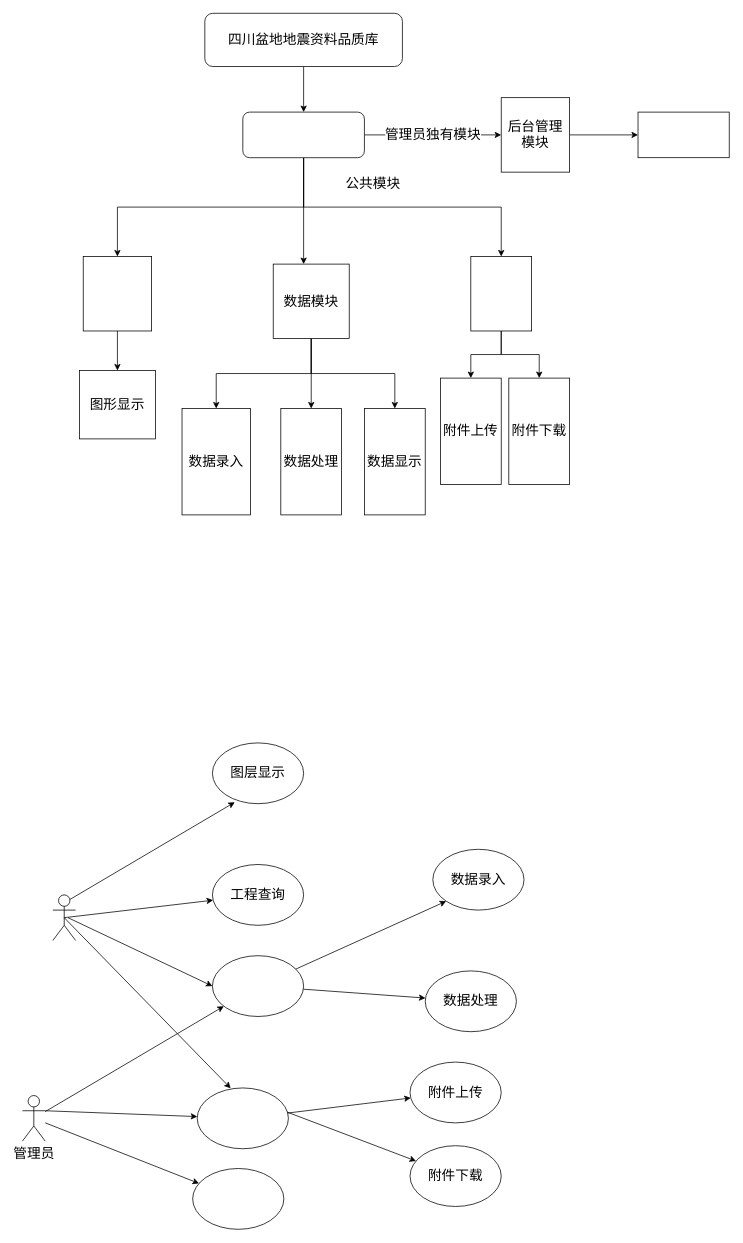
This 743x1243 diagram has some shape labels left out. Here are the shapes that lost their labels. From the top down, the box of each, then its label:
(242, 111, 364, 158): 登录模块
(637, 111, 729, 158): 权限功能管理
(82, 256, 152, 331): 图层模块
(470, 256, 532, 331): 文件模块
(52, 894, 76, 940): 普通用户
(212, 955, 304, 1016): 数据操作
(196, 1087, 288, 1149): 文件处理
(192, 1168, 284, 1229): 权限分配
